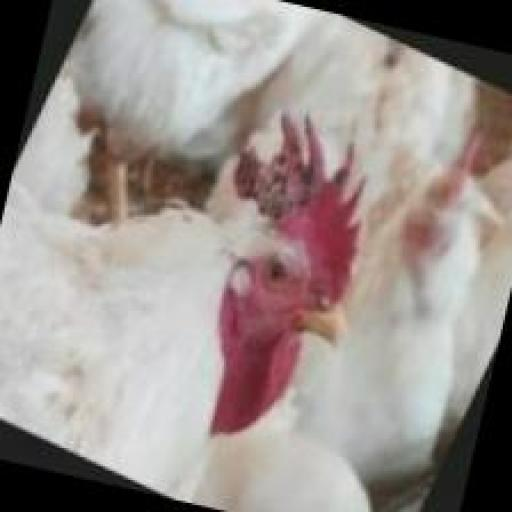disease: (222, 104, 356, 213)
